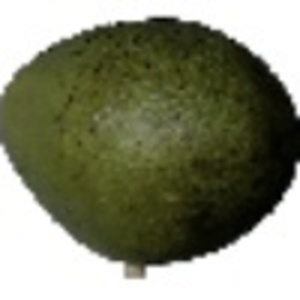abacate: (1, 9, 297, 264)
